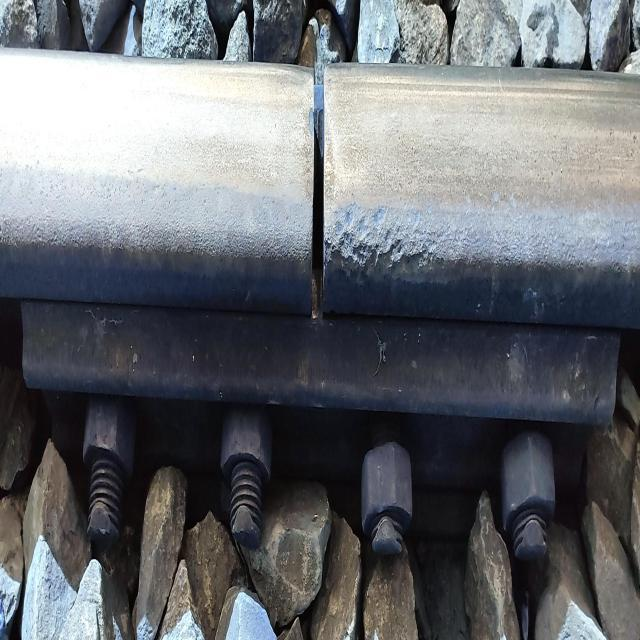Good Joint: (22, 309, 640, 603)
